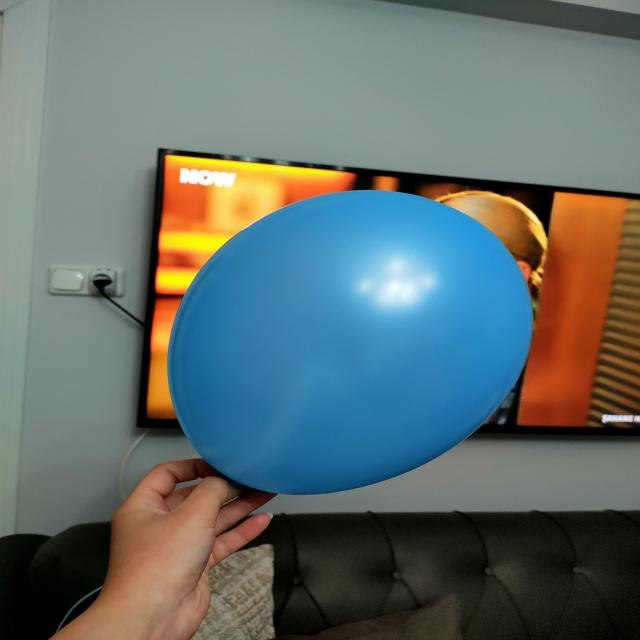blue: (166, 192, 530, 496)
